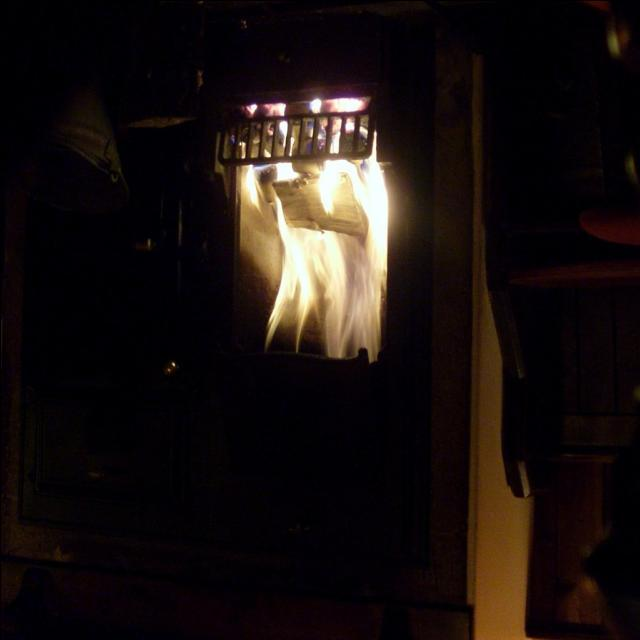Fire: (236, 104, 386, 364)
